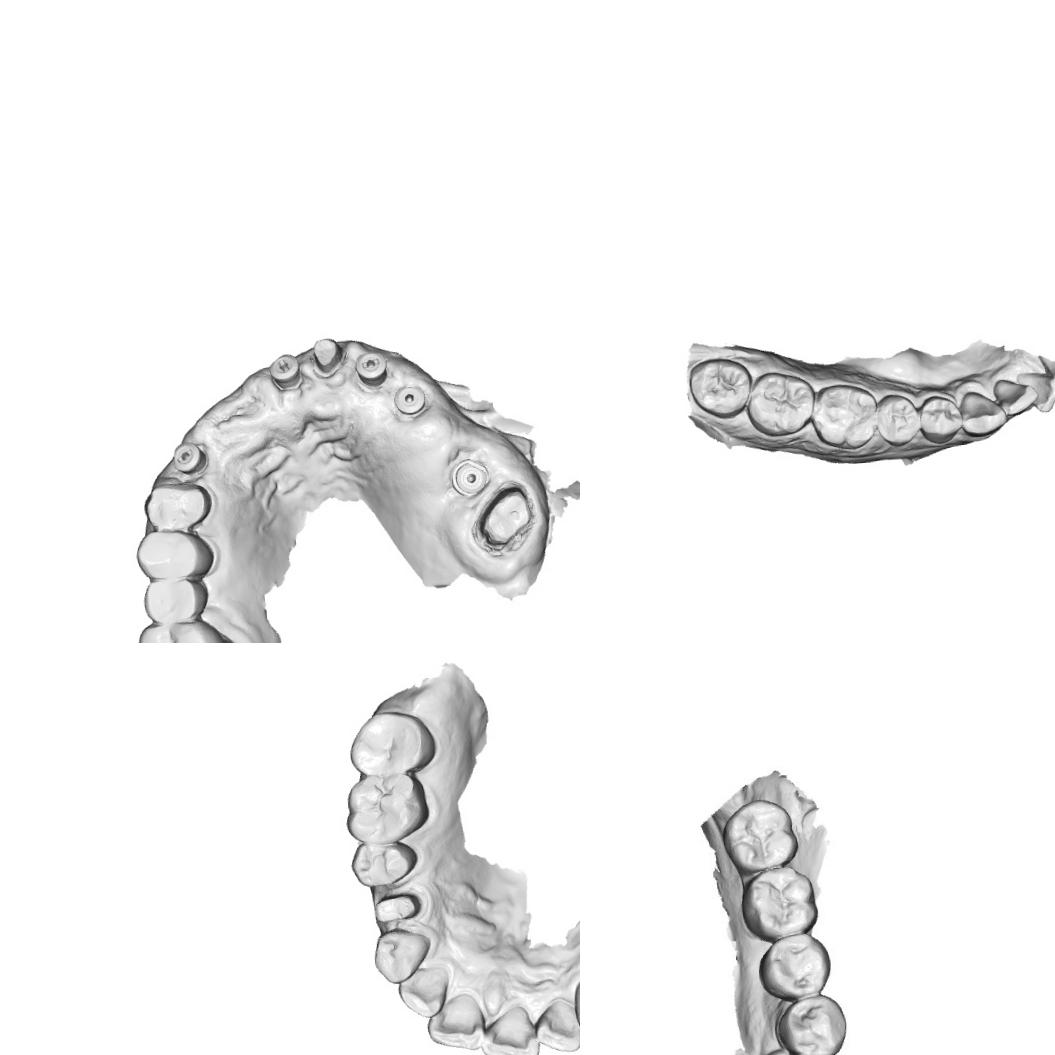canine: (139, 471, 214, 536), (371, 923, 434, 985), (958, 387, 1008, 438)
crown: (472, 480, 538, 554), (370, 885, 430, 924), (307, 336, 348, 378)
implant: (453, 459, 488, 494), (393, 380, 428, 414)
implant_minus: (264, 349, 308, 392), (348, 349, 394, 390), (168, 436, 209, 476)
incisor: (424, 988, 488, 1054), (478, 1001, 540, 1055), (395, 965, 451, 1020), (532, 993, 580, 1055), (991, 374, 1039, 418), (1014, 367, 1055, 416)
molar: (342, 770, 432, 848), (737, 862, 820, 944), (344, 708, 438, 780), (718, 794, 799, 873), (744, 368, 818, 438), (808, 380, 879, 452), (685, 355, 754, 422), (133, 616, 234, 643)
premolar: (753, 932, 834, 1002), (768, 990, 851, 1055), (132, 524, 217, 582), (138, 574, 212, 624), (349, 837, 420, 889), (873, 391, 922, 448), (917, 392, 964, 448)
